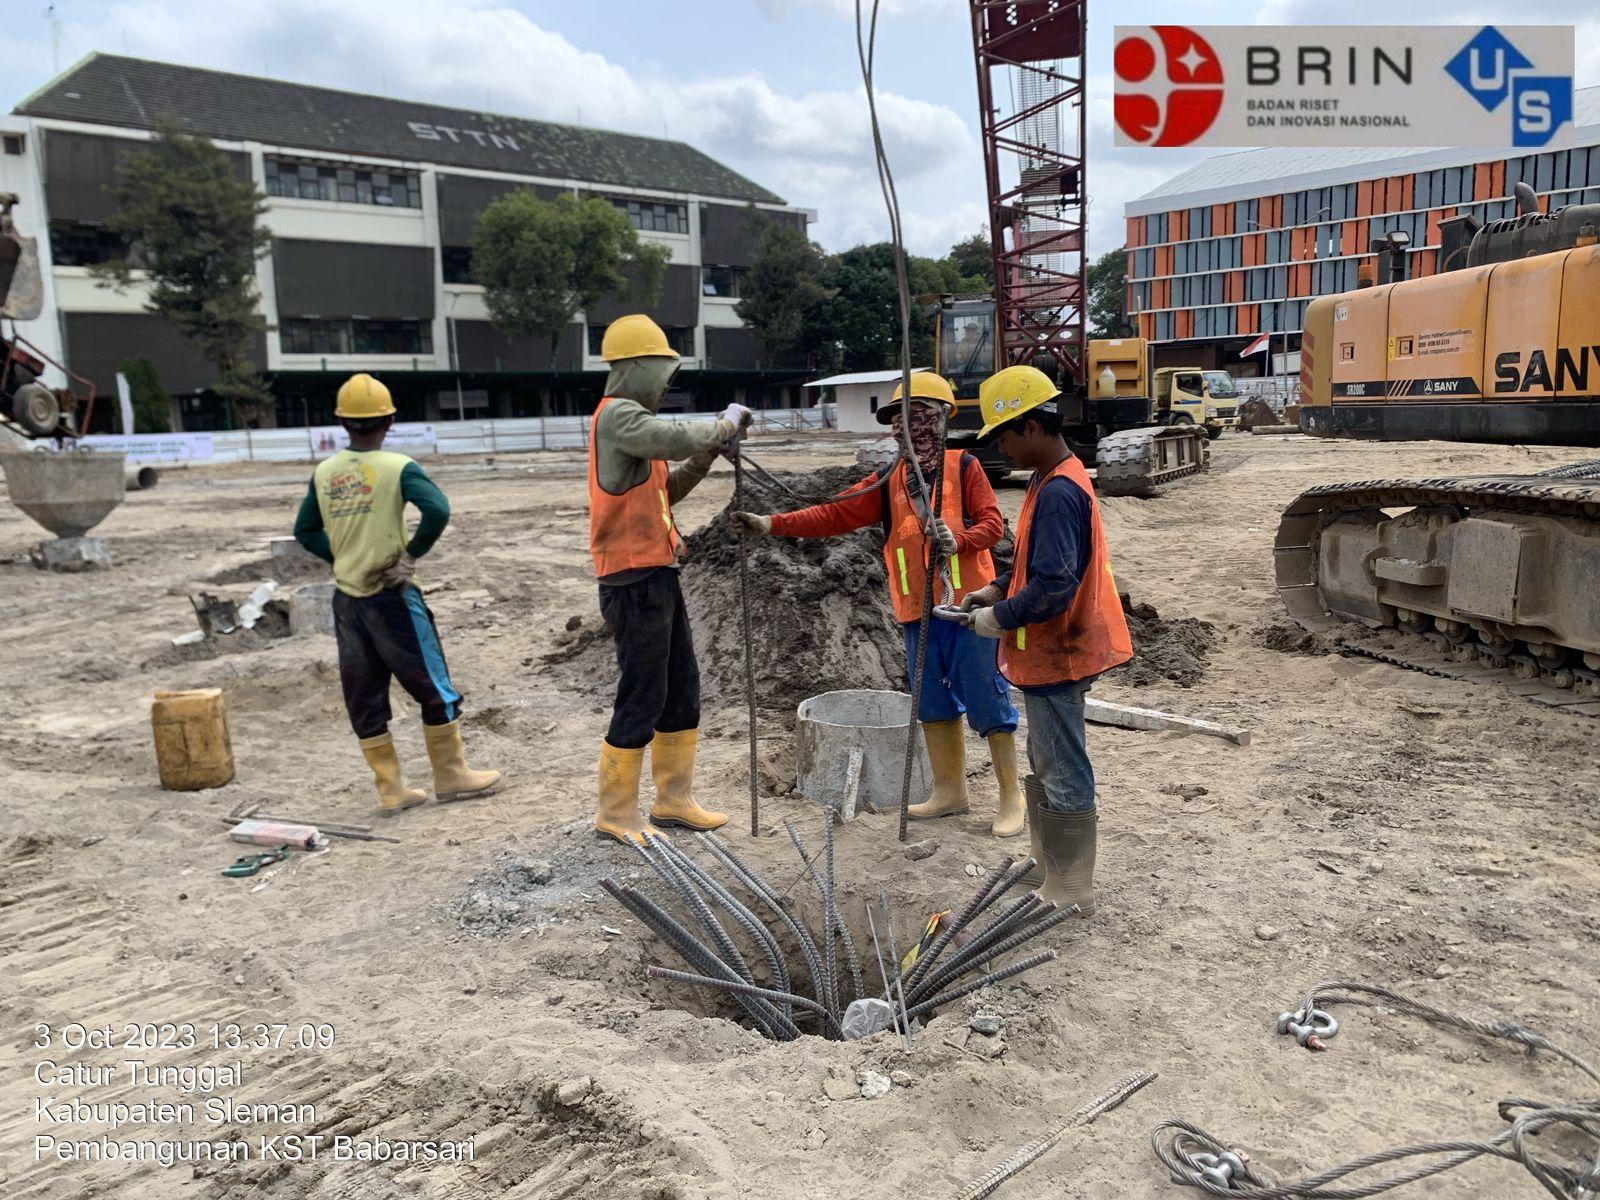hat: (571, 271, 731, 413), (951, 328, 1081, 494), (311, 338, 418, 451), (864, 342, 951, 474)
vest: (991, 447, 1164, 734), (281, 429, 477, 650), (551, 408, 721, 621), (834, 464, 1002, 658)
